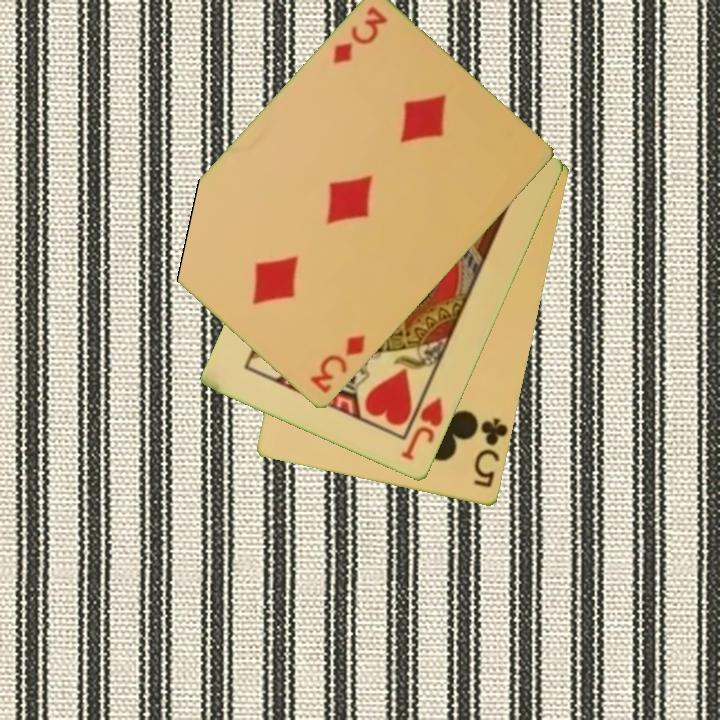3d: (306, 332, 368, 398), (329, 3, 391, 68)
5c: (471, 414, 511, 491)
Jh: (397, 383, 447, 464)
